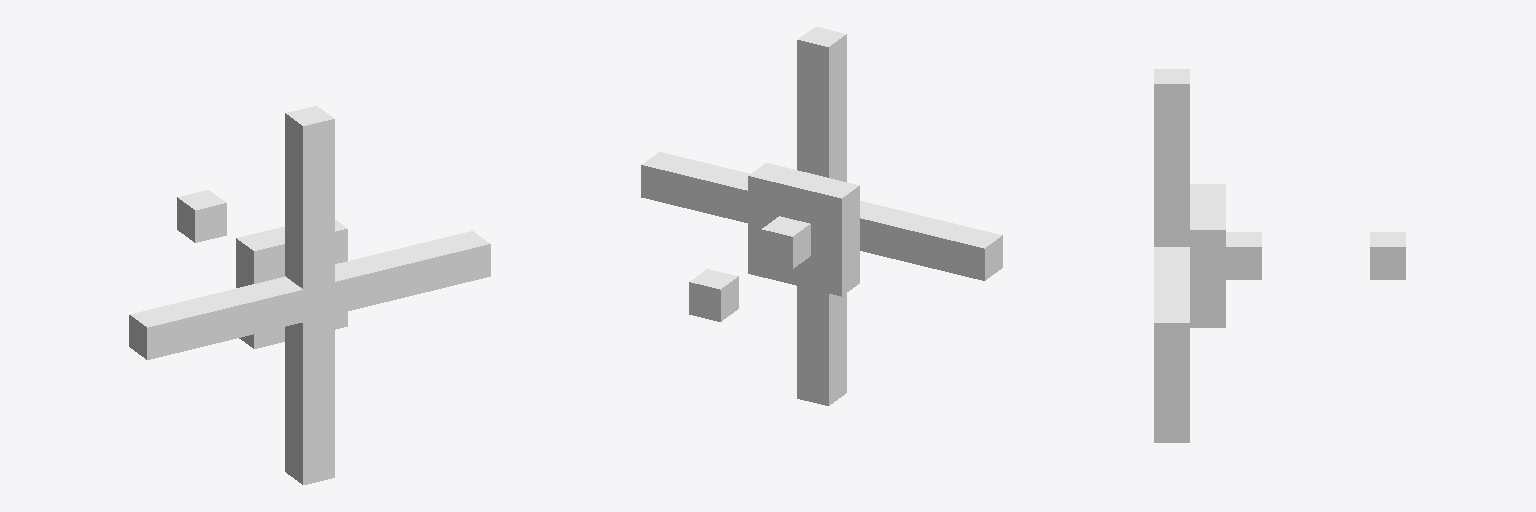
The model's file is Catapult1-0.obj.
The picture shows the model from 3 angles: view 1: azimuth 30°, elevation 25°; view 2: azimuth 150°, elevation 25°; view 3: azimuth 270°, elevation 25°; orthographic projection.
Visible parts, largest first — view 1: object 1; view 2: object 1; view 3: object 1.
Boxes of the visible parts, x1=… form: object 1: x1=129, y1=106, x2=490, y2=484; object 1: x1=641, y1=27, x2=1002, y2=405; object 1: x1=1154, y1=69, x2=1405, y2=442.
Size of the model in its own units: 1.1 by 1.1 by 0.7.